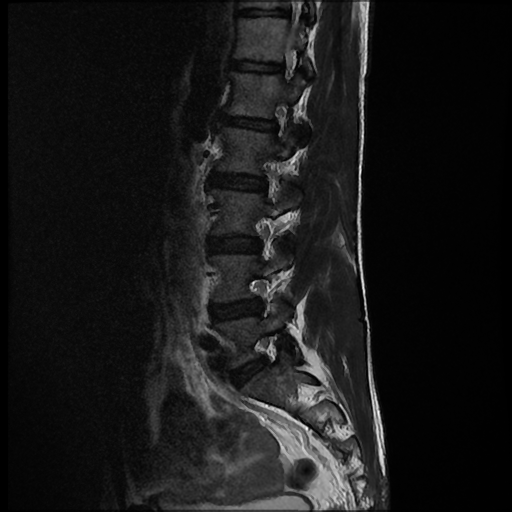LFS0: (246, 327, 294, 377), (260, 93, 298, 141)
